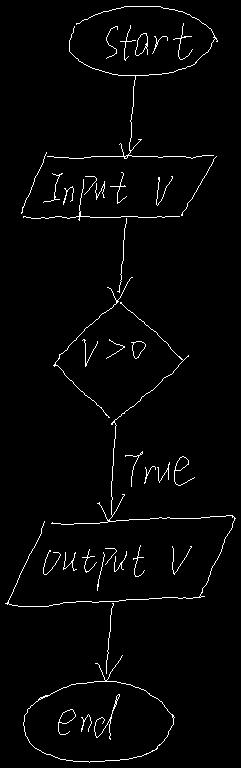arrow: (97, 421, 124, 521), (95, 603, 122, 681), (107, 218, 132, 302), (119, 75, 141, 158)
data: (5, 515, 235, 606), (21, 152, 216, 218)
decision: (53, 301, 188, 424)
terminator: (23, 681, 174, 762), (69, 6, 217, 75)
text: (43, 545, 191, 590), (43, 172, 172, 220), (106, 23, 192, 60), (58, 694, 119, 739), (125, 451, 194, 486), (82, 339, 145, 366)
